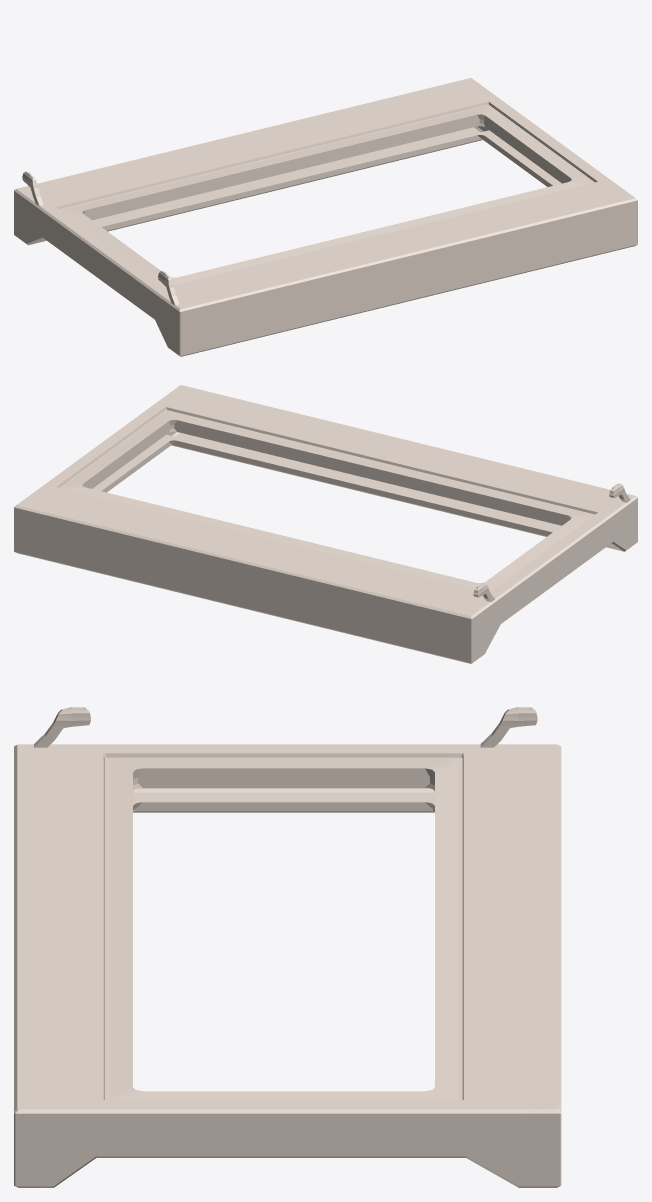
Rendered from DoormeshMicrowaveDoorC9_1_GeomSubset_0.obj.
3 views of the same model, one above another, from view 1: azimuth 30°, elevation 25°; view 2: azimuth 150°, elevation 25°; view 3: azimuth 270°, elevation 25° (orthographic). The views are drawn at different scales.
Visible parts, largest first — view 1: DoormeshMicrowaveDoorC9_1_GeomSubset_0; view 2: DoormeshMicrowaveDoorC9_1_GeomSubset_0; view 3: DoormeshMicrowaveDoorC9_1_GeomSubset_0.
Part boxes in pixels (<box>): DoormeshMicrowaveDoorC9_1_GeomSubset_0: <box>14,78,637,356</box>; DoormeshMicrowaveDoorC9_1_GeomSubset_0: <box>14,385,637,663</box>; DoormeshMicrowaveDoorC9_1_GeomSubset_0: <box>14,707,561,1187</box>.
Bounding box in the file's own units: 0.4505 × 0.153 × 0.3229.
